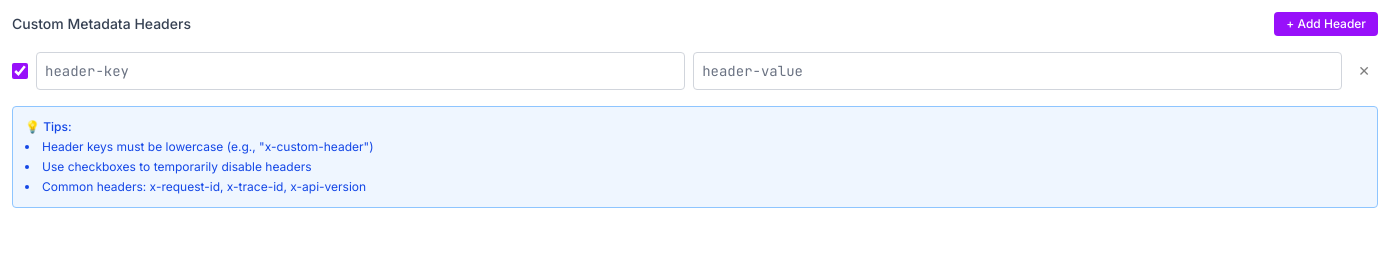
Test: MetadataTab › Adding and removing entries › should remove entry when clicking remove button
This screenshot has width=1390, height=271.
Click the button "+ Add Header": (1326, 24) [1274,12,1378,36]
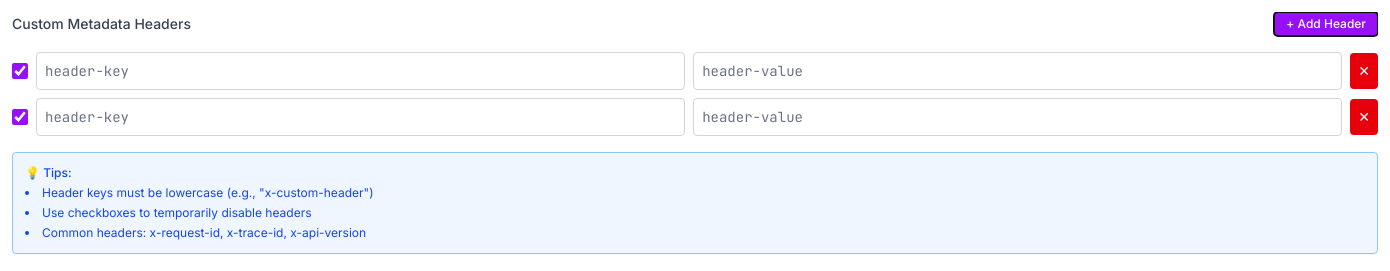
Check: the number of fields with placeholder "header-key" is 2, box [36,52,685,90]; [36,98,685,136]
Click the 1st button "✕": (1364, 71) [1350,53,1378,89]
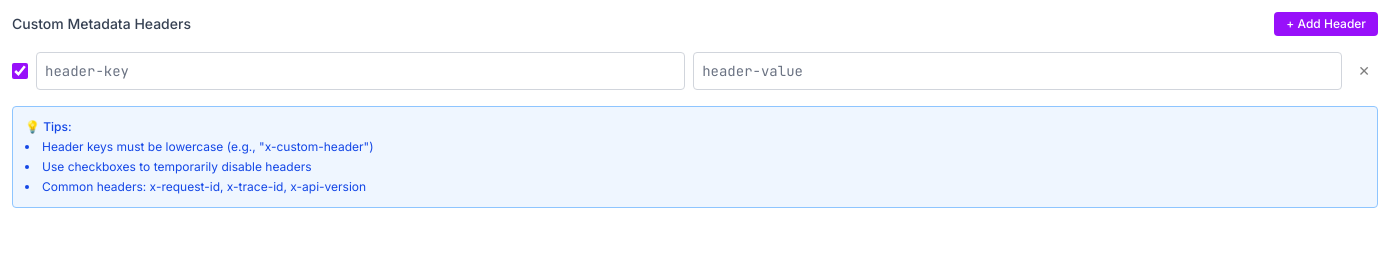
Check: the number of fields with placeholder "header-key" is 1, box [36,52,685,90]
